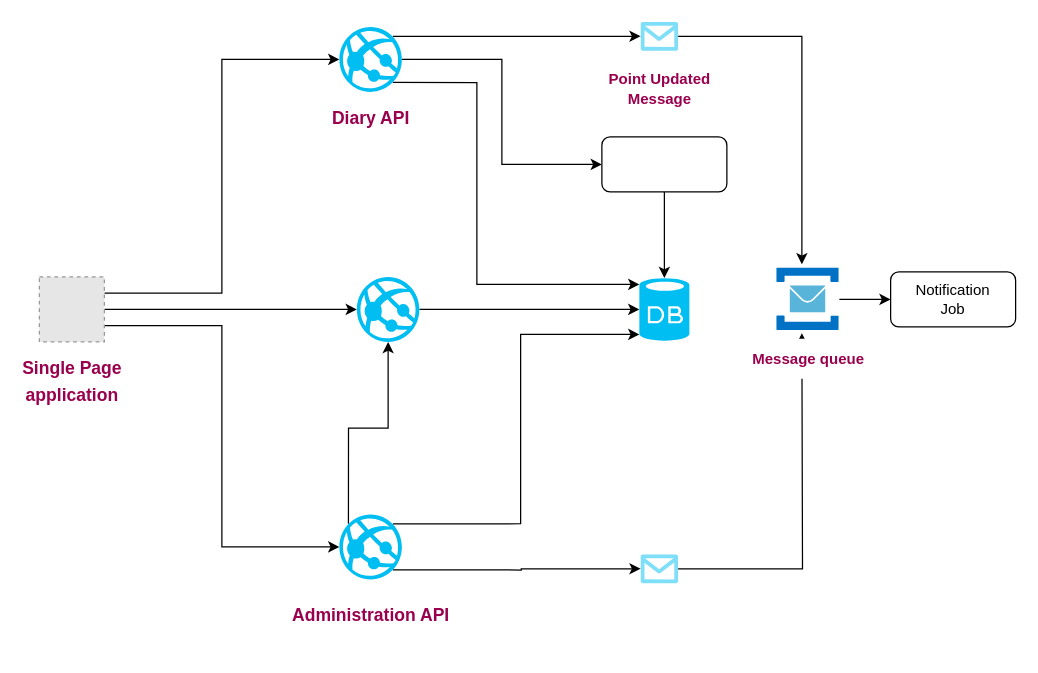
Image size: 1038x673. Some labels were removed from this diagram. Grey dashed boxes stand in for pictures. Each missing label, with the centre of its shape:
"Group Updated Message" belongs at pixel 659 568.
"Identity Service" belongs at pixel 387 308.
"ReportGenerator Job" belongs at pixel 664 164.
